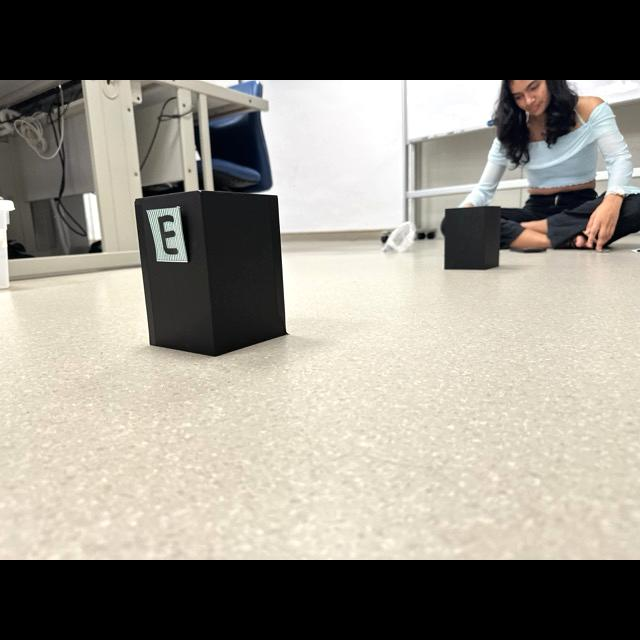E: (158, 214, 178, 255)
